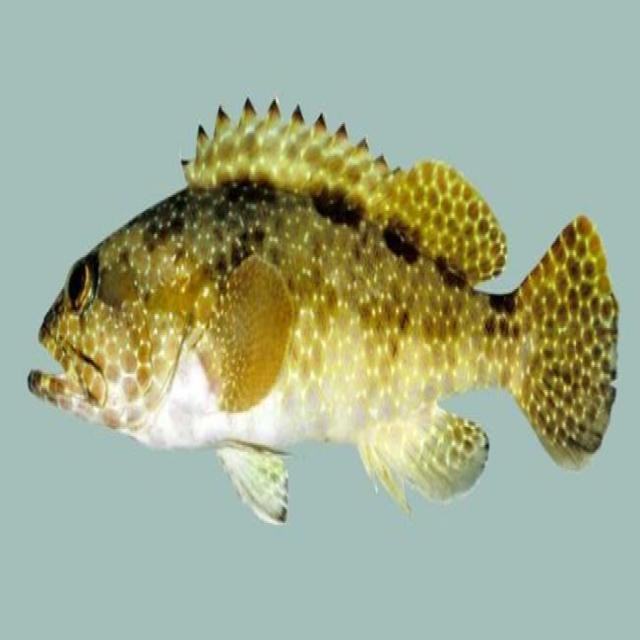ikan: (27, 94, 619, 526)
